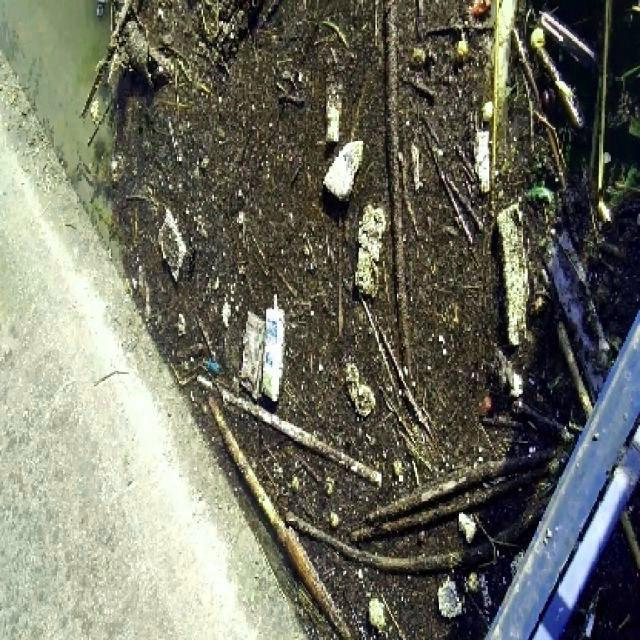Metal: (233, 296, 295, 404)
Plastic: (322, 134, 372, 202)
Trash: (346, 203, 388, 303), (498, 199, 526, 345)
